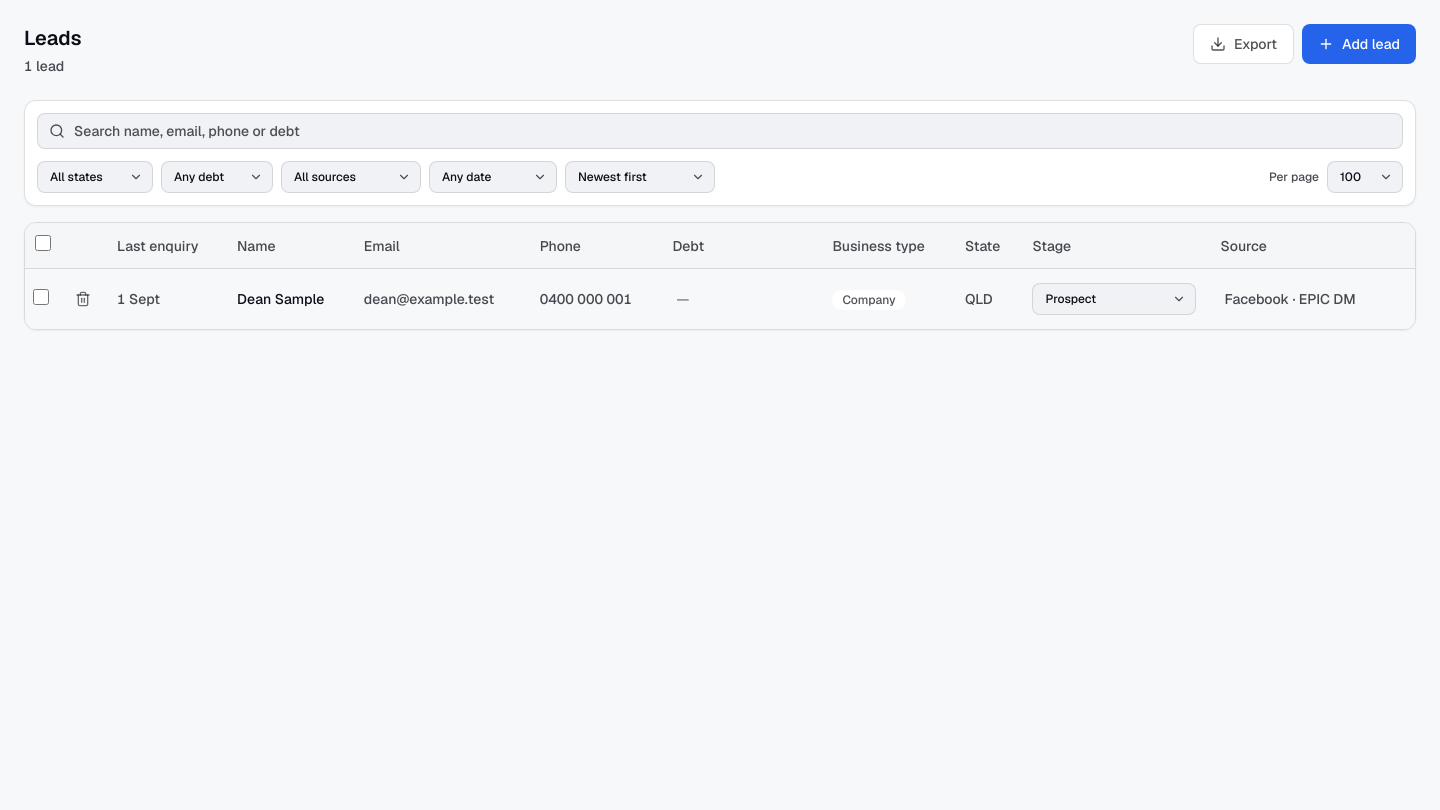
Test case: SourceInput › puts the previous source back when the save fails
Step 1. Click the button with aria-label "Edit source for Dean Sample" → (1299, 299), box [1220,287,1378,311]
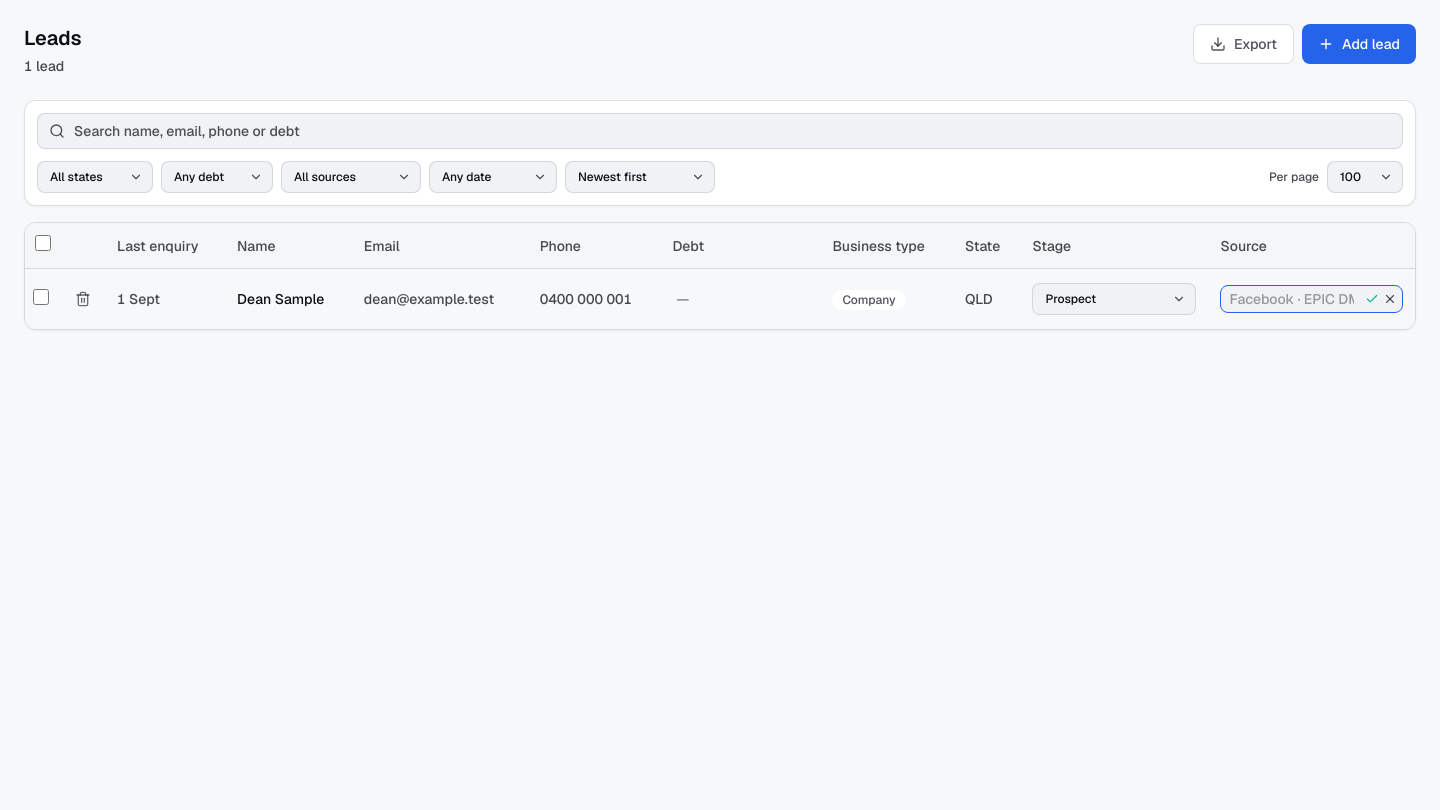
Step 2. Type "Walk-in" into the field named "Source for Dean Sample" → (1312, 299), box [1220,285,1403,313]
Then press Enter
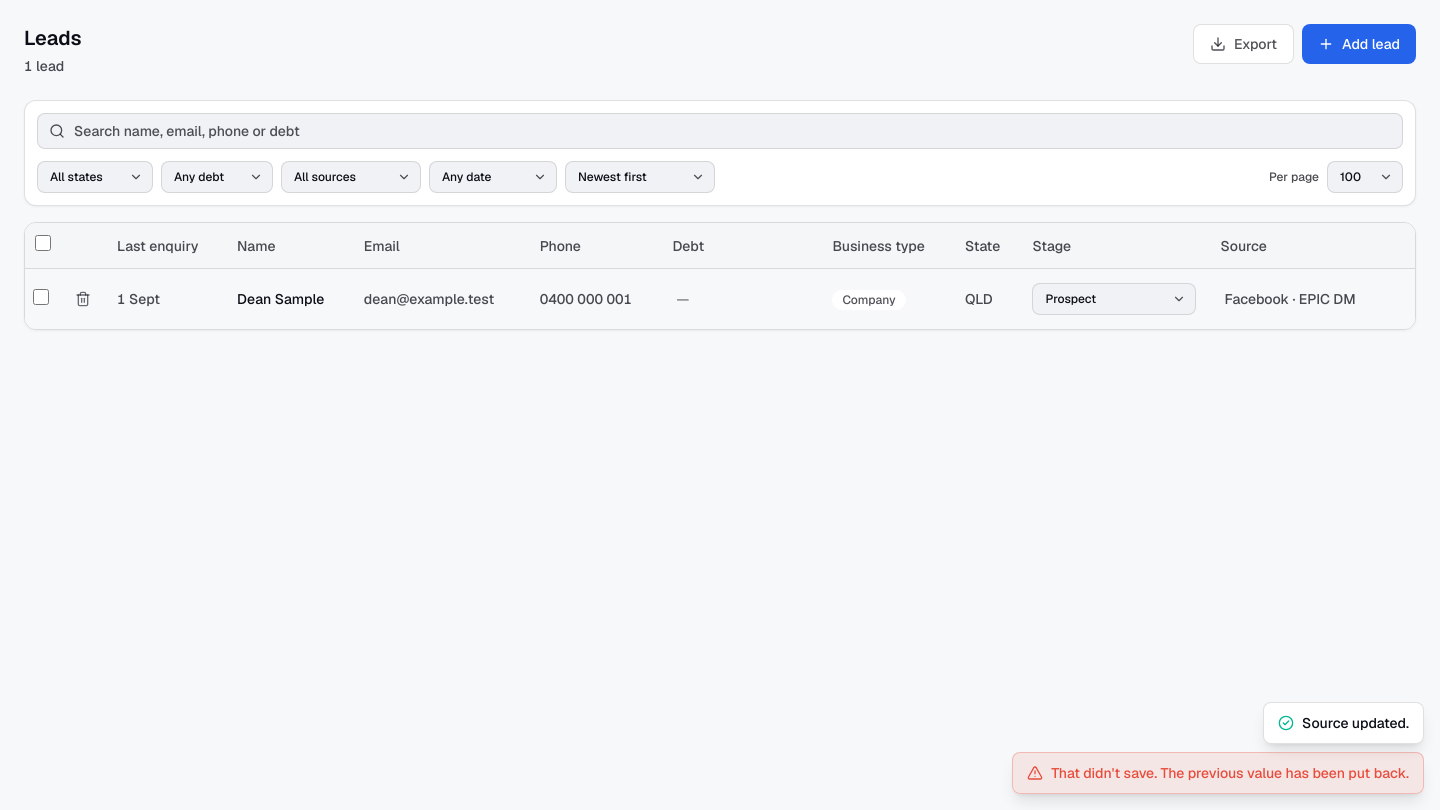
Check: the button with aria-label "Edit source for Dean Sample" reads "Facebook · EPIC DM", box [1220,287,1378,311]
